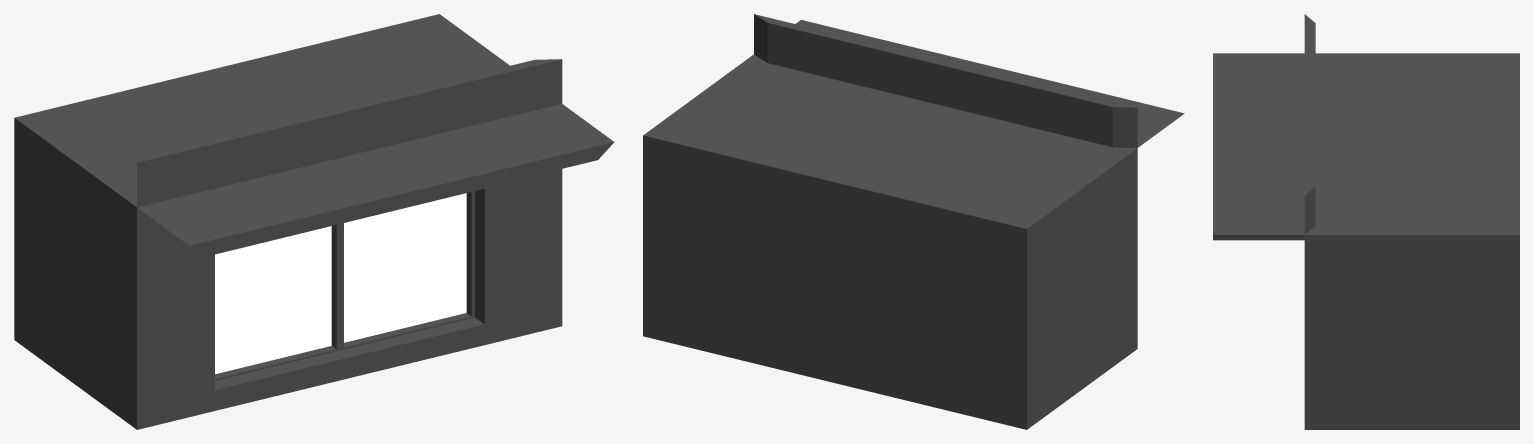
The model's file is Grandhaut.fbx.
3 renders of one model, left to right at view 1: azimuth 30°, elevation 25°; view 2: azimuth 150°, elevation 25°; view 3: azimuth 270°, elevation 25°, orthographic. The views are drawn at different scales.
Visible parts, largest first — view 1: Cube.123; view 2: Cube.123; view 3: Cube.123.
Part boxes in pixels (x1,y1,x2,y2): Cube.123: (14,14,614,429); Cube.123: (643,14,1184,429); Cube.123: (1213,14,1519,429).
Bounding box in the file's own units: 4000 × 2402 × 2852.
